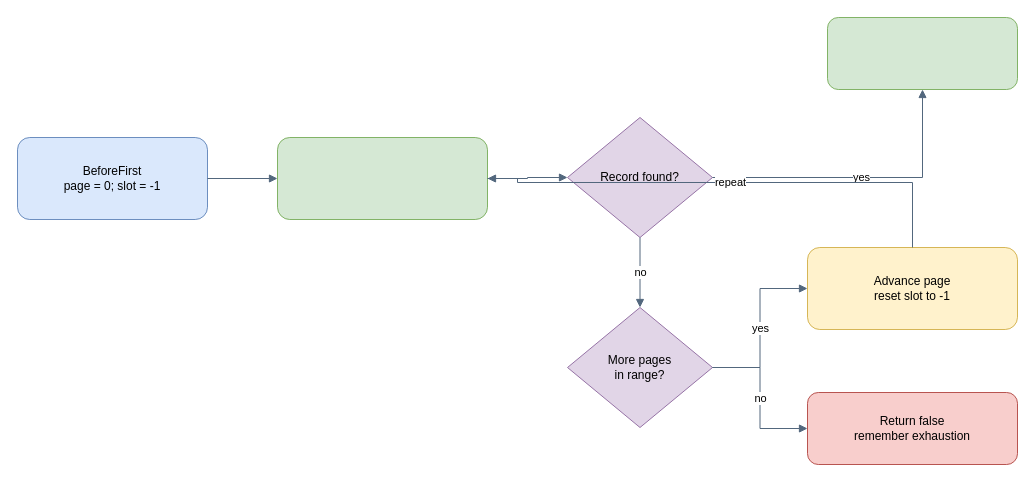
The diagram is 1035 pixels wide and 482 high, and some of its shapes have lost their labels. Each missing label, with the centre of its shape:
"Return current row true" belongs at pixel 922 53.
"Search active page NextAfter(current slot)" belongs at pixel 382 178.
